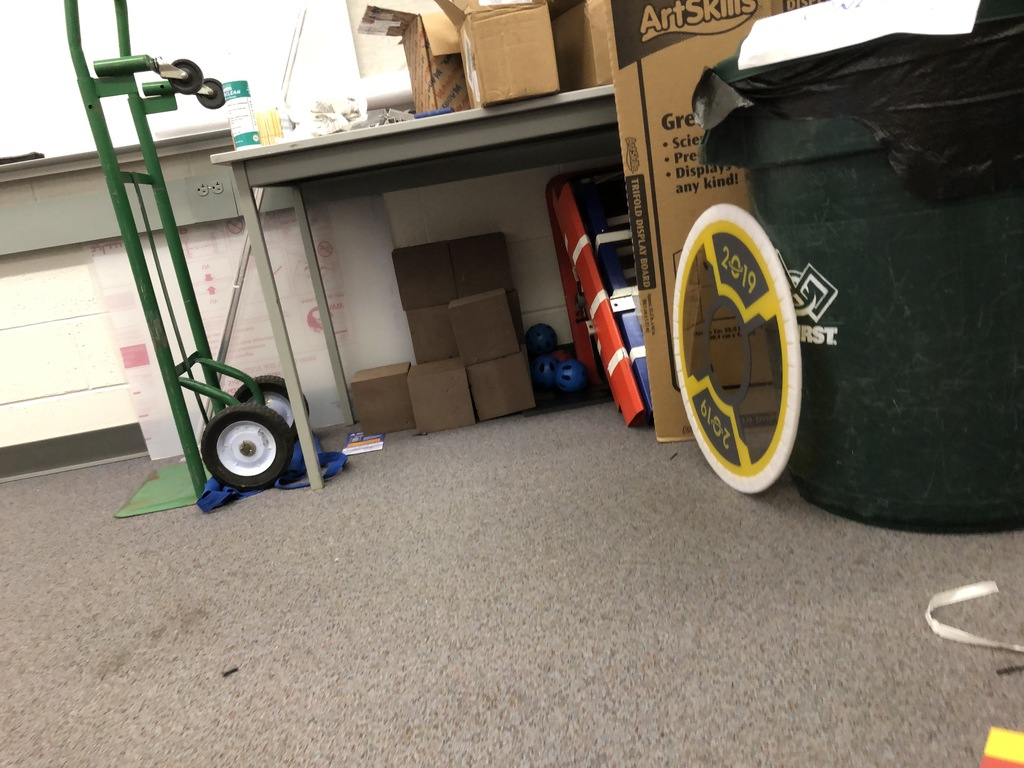hatch_panel: (667, 183, 803, 513)
